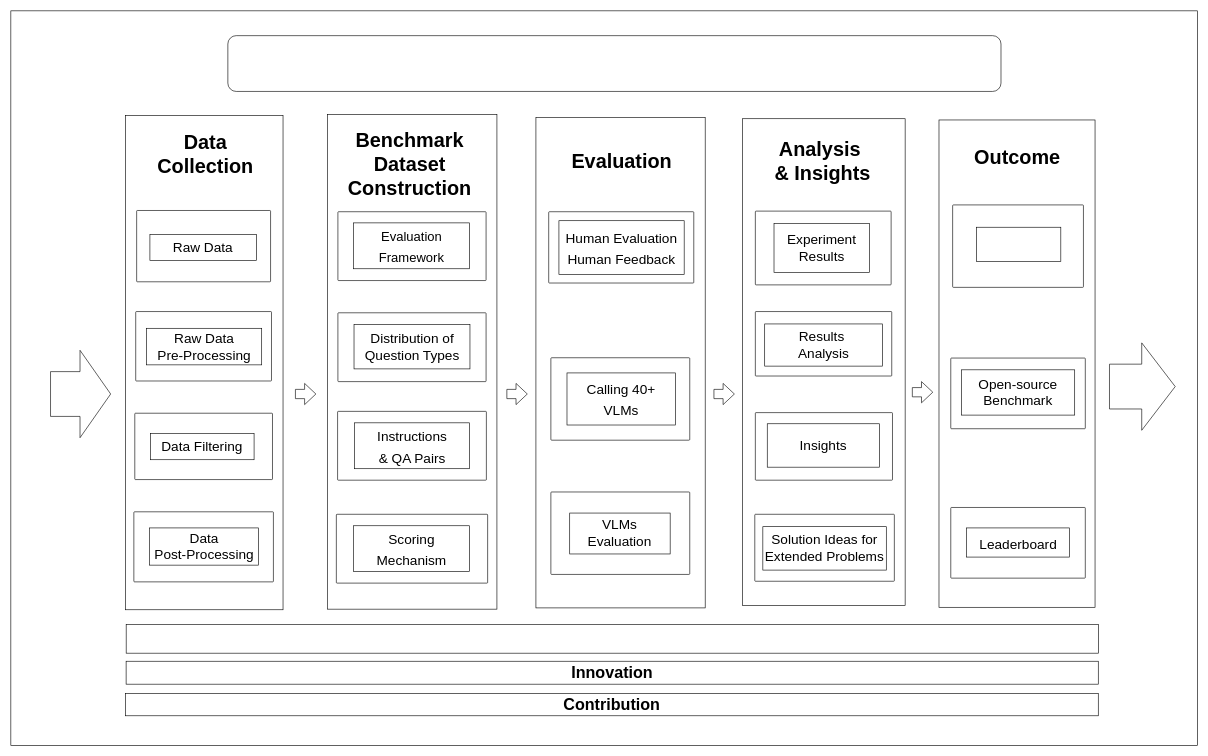
Some shapes in this 1208 by 756 pixel diagram are drawn without their labels. The shapes that lost their labels are listed below. From the top down, each one's centre as x and y in pixels, then its label:
At point 614,63: "Framework and Workflow of FTTracerBench Research".
At point 1018,244: "Paper".
At point 612,638: "Keeping up with the latest research literature in related cutting-edge fields".
